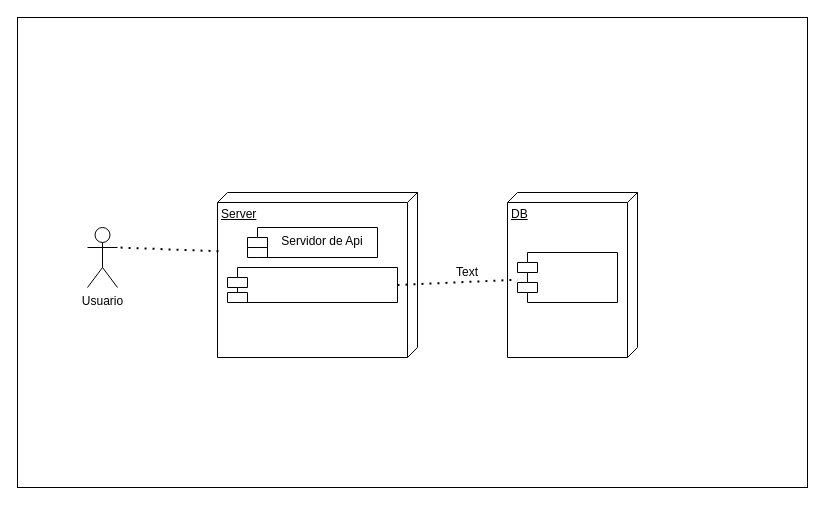
Image size: 825x505. Some labels were removed from this diagram. The shapes that lost their labels are listed below. From the top down, each one's centre as x and y in pixels, then its label:
point 312,284: SistemaConcesionario
point 567,277: base de datos supabase
